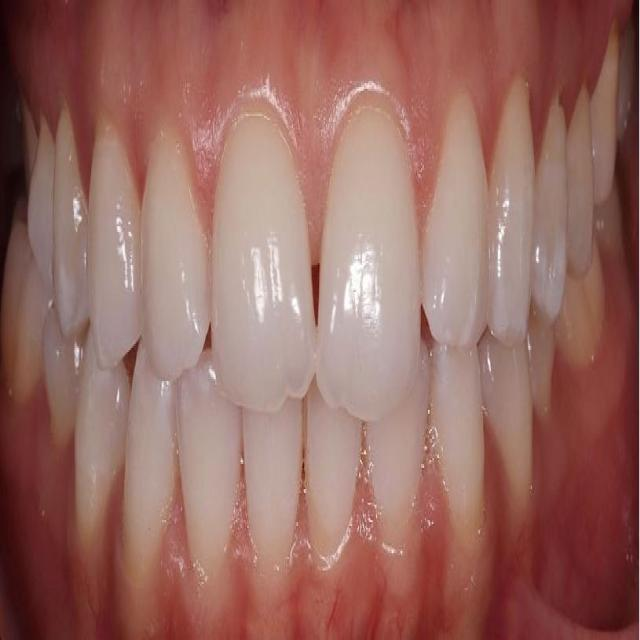1st Molar: (1, 215, 44, 398), (558, 265, 605, 371), (594, 25, 620, 195)
1st Premolar: (75, 329, 128, 536), (477, 340, 533, 522), (53, 110, 90, 342), (533, 95, 567, 321)
2nd Molar: (620, 19, 638, 145), (596, 184, 623, 261)
2nd Premolar: (43, 305, 84, 447), (567, 87, 594, 280), (28, 118, 54, 275), (529, 313, 555, 423)
Canine: (485, 77, 535, 342), (89, 120, 141, 369), (123, 344, 175, 572), (431, 346, 485, 538)
Central Incisor: (316, 104, 422, 422), (212, 118, 316, 414), (241, 404, 303, 582), (305, 389, 361, 567)
Lateral Incisor: (141, 128, 211, 383), (422, 91, 486, 348), (174, 360, 242, 582), (367, 348, 432, 553)
